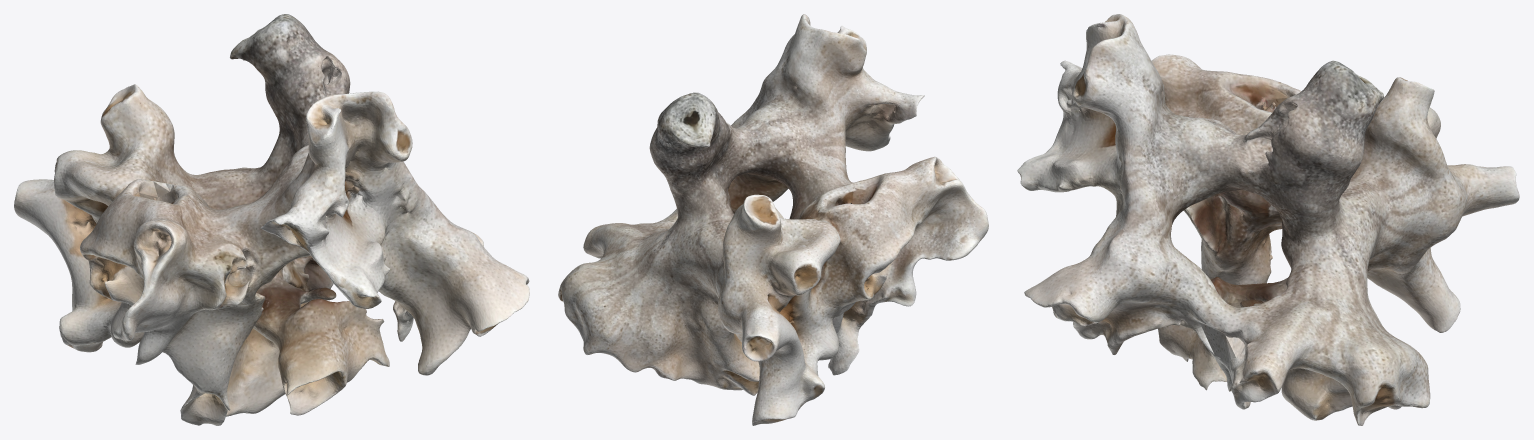
File: MZUR3D-012.glb
3 views of the same model, side by side, from view 1: azimuth 30°, elevation 25°; view 2: azimuth 150°, elevation 25°; view 3: azimuth 270°, elevation 25° (orthographic). The views are drawn at different scales.
Parts seen in each view (by area): view 1: MZUR3D-012; view 2: MZUR3D-012; view 3: MZUR3D-012.
Part boxes in pixels (x1,y1,x2,y2): MZUR3D-012: [14, 14, 529, 425]; MZUR3D-012: [558, 14, 988, 425]; MZUR3D-012: [1017, 14, 1519, 425].
Size of the model in its own units: 0.7883 by 0.6772 by 0.8171.
1 material, 1 textured.
